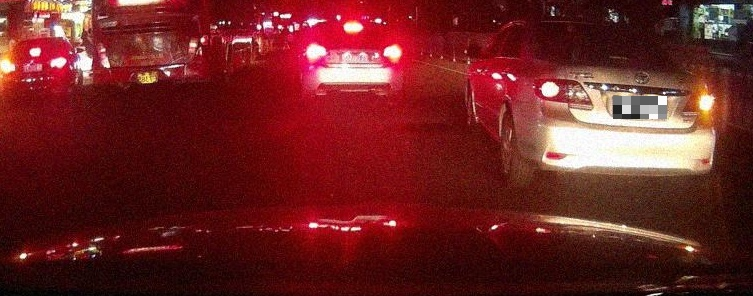L_light: (532, 78, 594, 111), (306, 42, 327, 63), (0, 60, 16, 74)
R_light: (681, 90, 715, 116), (383, 44, 402, 64), (50, 57, 67, 69)
T_light: (343, 20, 364, 34), (29, 48, 42, 57), (609, 55, 630, 60)
night-brake: (303, 20, 404, 102), (0, 37, 68, 101)
night-right: (527, 17, 716, 190)
plate_1: (613, 96, 667, 119)
